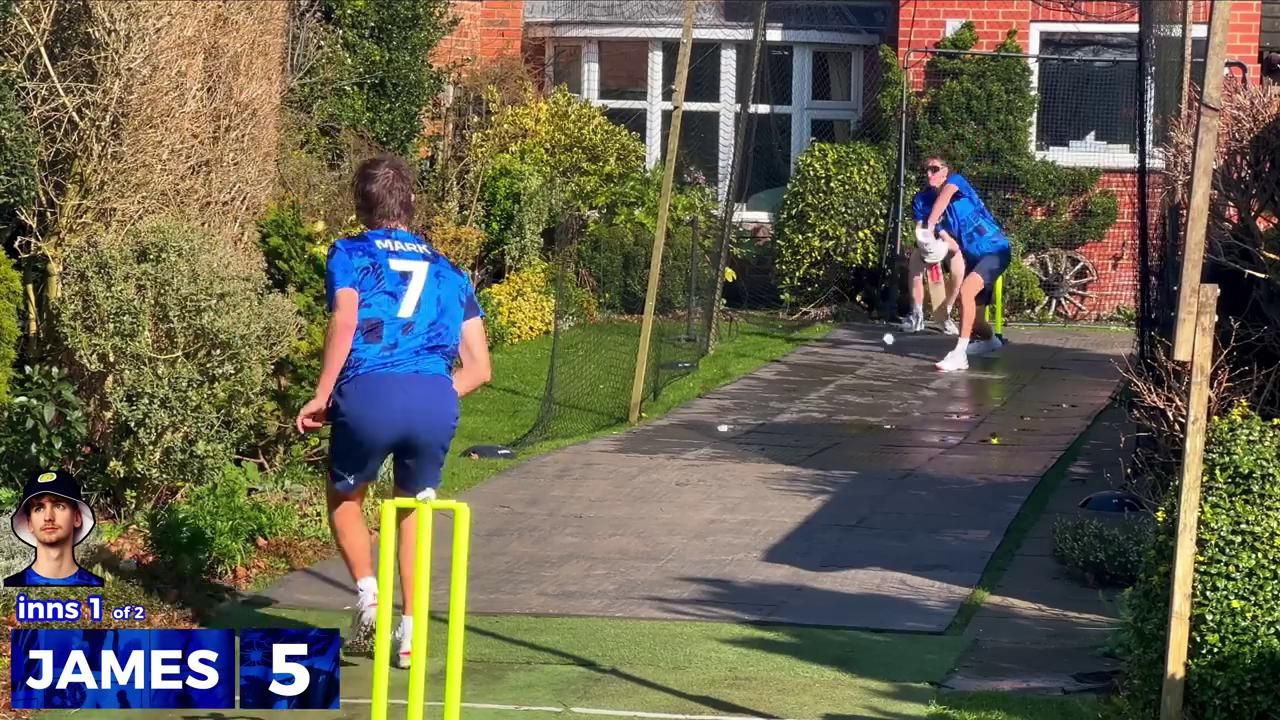ball: (876, 326, 903, 351)
